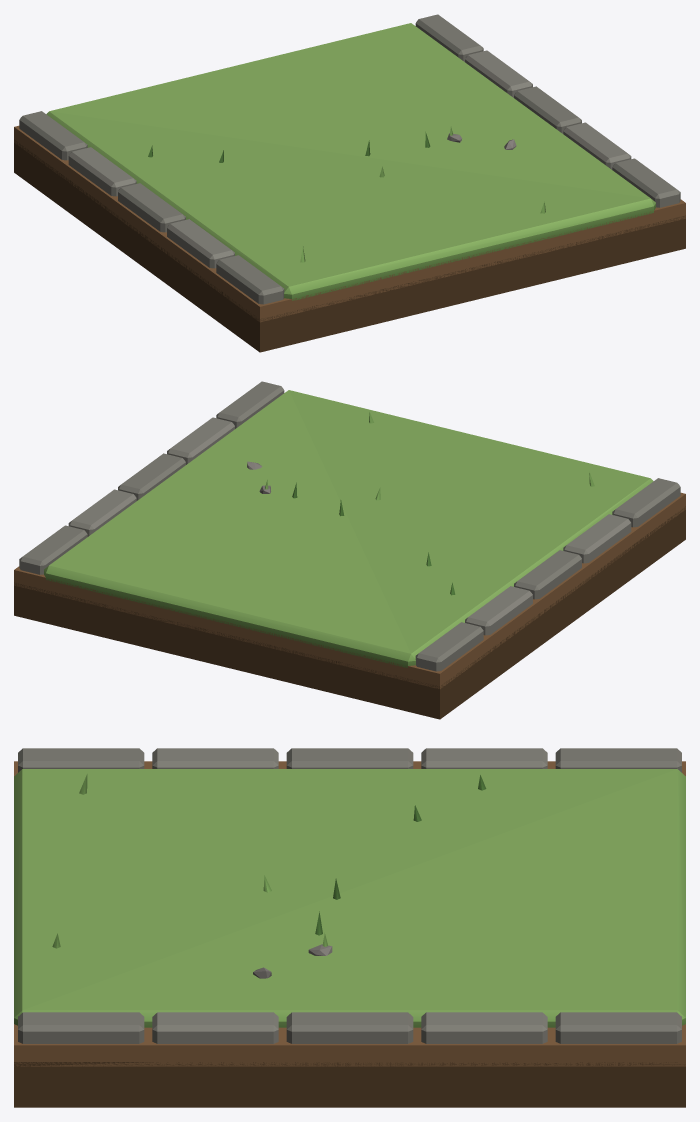
File: grass-verge-01.glb
3 views of the same model, one above another, from view 1: azimuth 30°, elevation 25°; view 2: azimuth 150°, elevation 25°; view 3: azimuth 270°, elevation 25° (orthographic). The views are drawn at different scales.
Visible parts, largest first — view 1: grass_verge_01; view 2: grass_verge_01; view 3: grass_verge_01.
Part boxes in pixels (x1=…): grass_verge_01: x1=14, y1=14, x2=685, y2=352; grass_verge_01: x1=14, y1=381, x2=685, y2=719; grass_verge_01: x1=14, y1=748, x2=685, y2=1107.
Size of the model in its own units: 4 by 0.6424 by 4.
